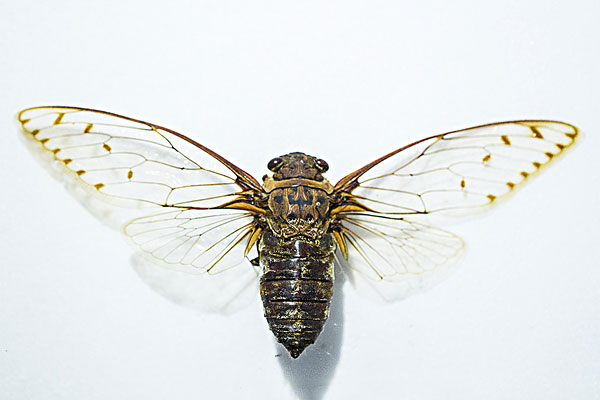chan: (27, 100, 582, 362)
